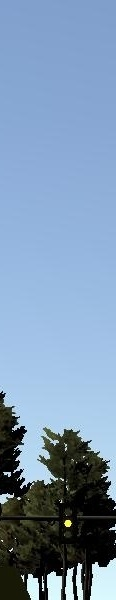Yellow: (56, 499, 77, 544)
